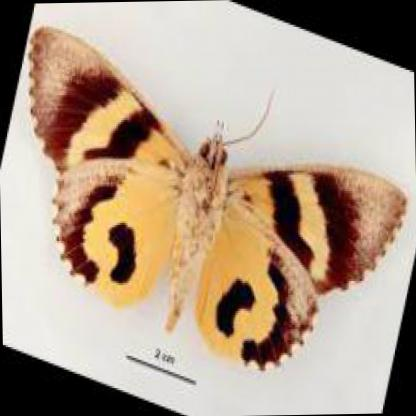fruit sucking moth: (28, 26, 410, 381)
